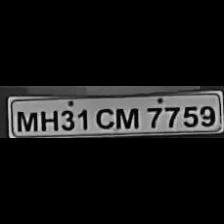1: (75, 107, 91, 131)
3: (58, 106, 76, 132)
5: (180, 102, 198, 127)
7: (142, 104, 162, 128), (162, 104, 180, 128)
9: (198, 103, 216, 127)
C: (92, 106, 116, 130)
H: (38, 108, 58, 132)
M: (117, 105, 139, 129), (13, 108, 34, 132)
